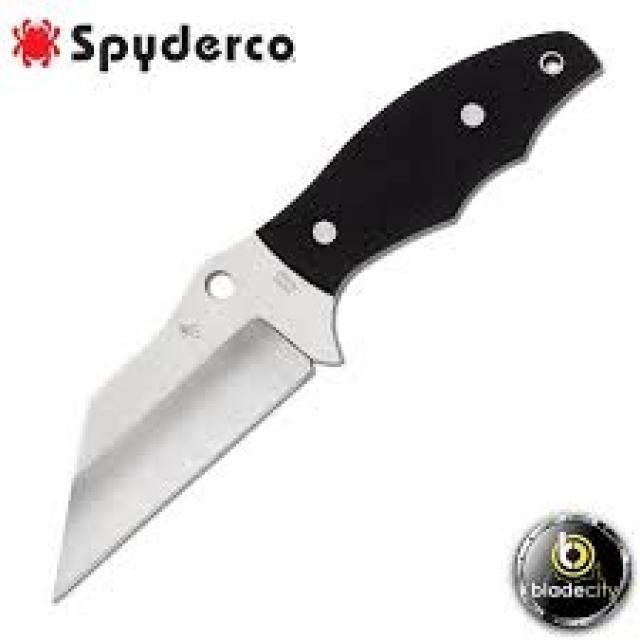knives: (28, 143, 438, 596)
